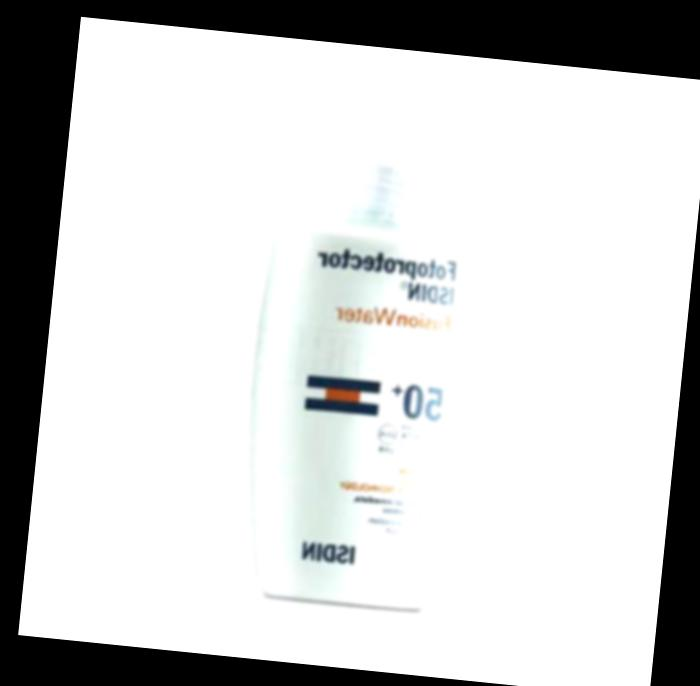cosmetic: (229, 107, 498, 618)
